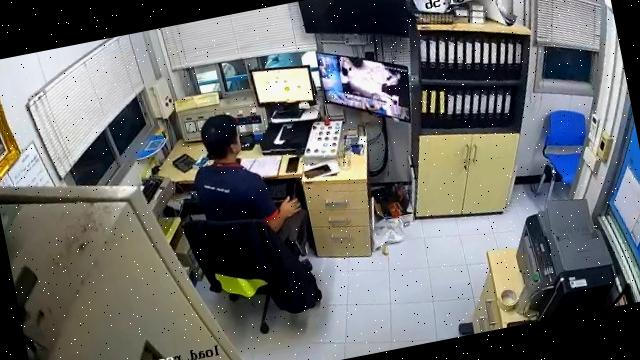Head: (202, 115, 241, 160)
People: (195, 116, 306, 247)
Phone: (303, 163, 332, 179), (286, 156, 300, 173)
